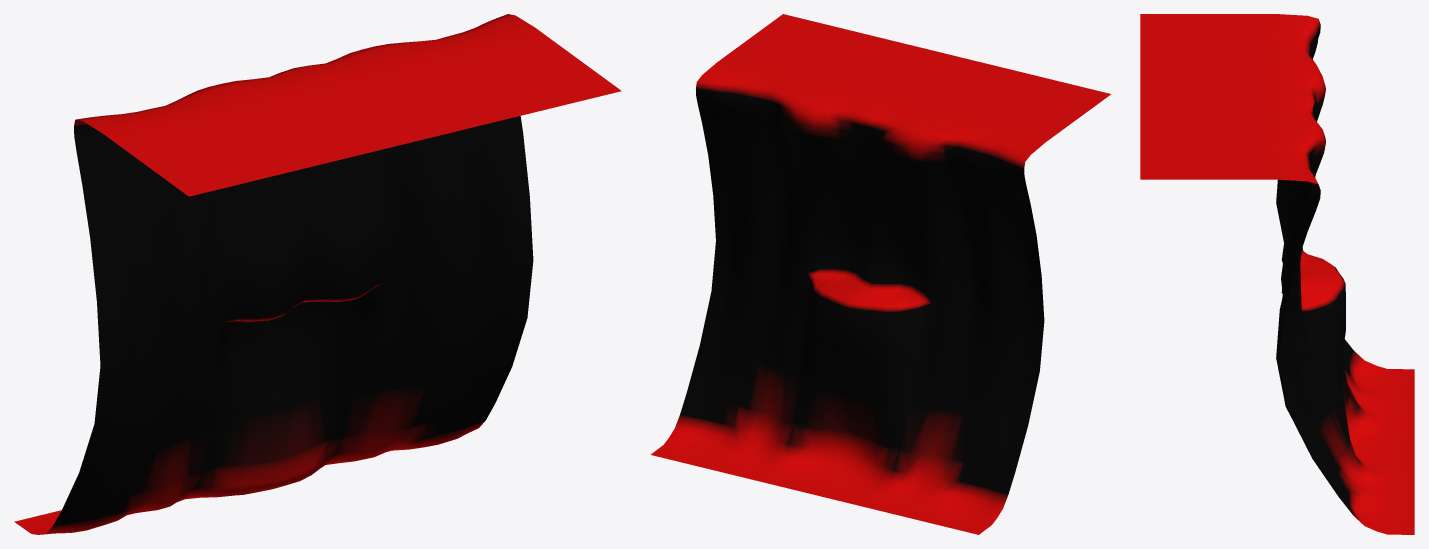
Rendered from GroundCliff01C 2M Foreground.fbx.
The picture shows the model from 3 angles, left to right: view 1: azimuth 30°, elevation 25°; view 2: azimuth 150°, elevation 25°; view 3: azimuth 270°, elevation 25°; orthographic projection. The views are drawn at different scales.
Parts seen in each view (by area): view 1: GroundCliff01C 2M Foreground; view 2: GroundCliff01C 2M Foreground; view 3: GroundCliff01C 2M Foreground.
Boxes of the visible parts, x1,y1,x2,y2 form: GroundCliff01C 2M Foreground: (14, 14, 621, 534); GroundCliff01C 2M Foreground: (650, 14, 1111, 534); GroundCliff01C 2M Foreground: (1140, 14, 1414, 534).
Bounding box in the file's own units: 2 × 2 × 1.4.
